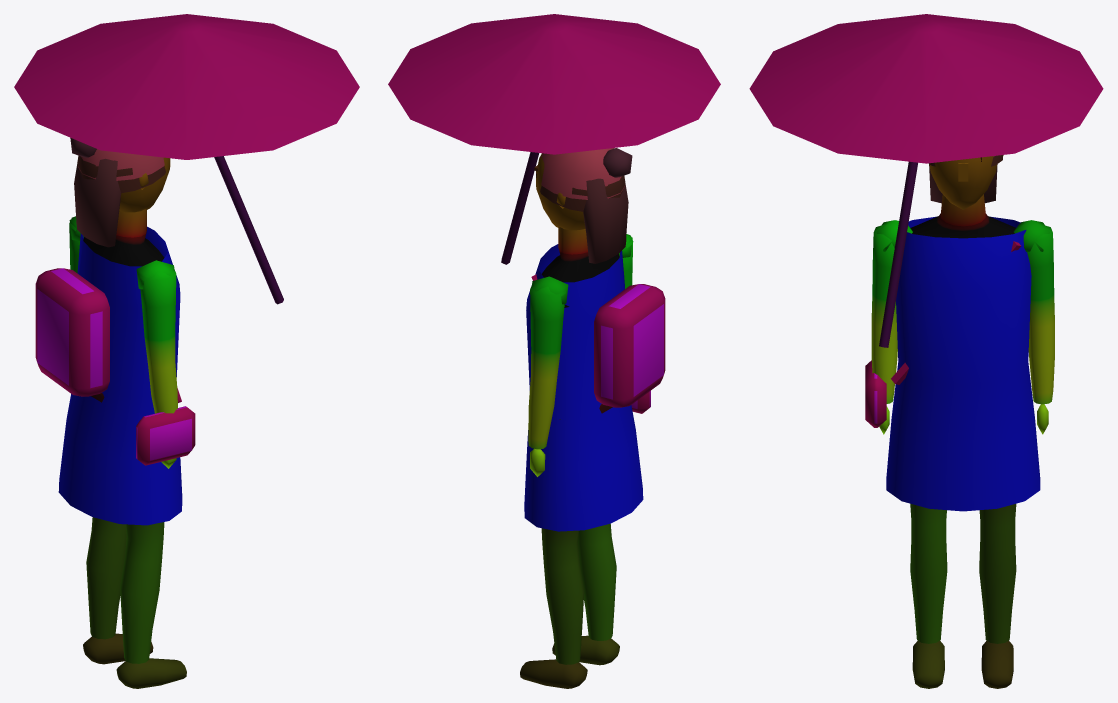
Rendered from person_child.glb.
3 views of the same model, side by side, from view 1: azimuth 30°, elevation 25°; view 2: azimuth 150°, elevation 25°; view 3: azimuth 270°, elevation 25° (orthographic). The views are drawn at different scales.
Parts seen in each view (by area): view 1: person_child; view 2: person_child; view 3: person_child.
Part boxes in pixels (left/top/right/bottom): person_child: left=14, top=14, right=359, bottom=688; person_child: left=388, top=14, right=720, bottom=688; person_child: left=749, top=14, right=1103, bottom=688.
Bounding box in the file's own units: 0.7696 × 1.6 × 0.7696.
